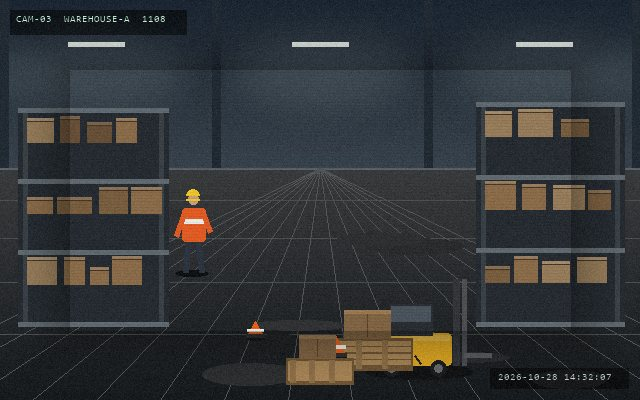cone: (323, 333, 347, 359), (245, 319, 265, 340)
forklift: (370, 277, 493, 379)
pallet: (325, 336, 414, 372), (284, 356, 355, 386)
person: (174, 187, 212, 275)
shelf: (476, 102, 624, 322), (18, 108, 168, 322)
